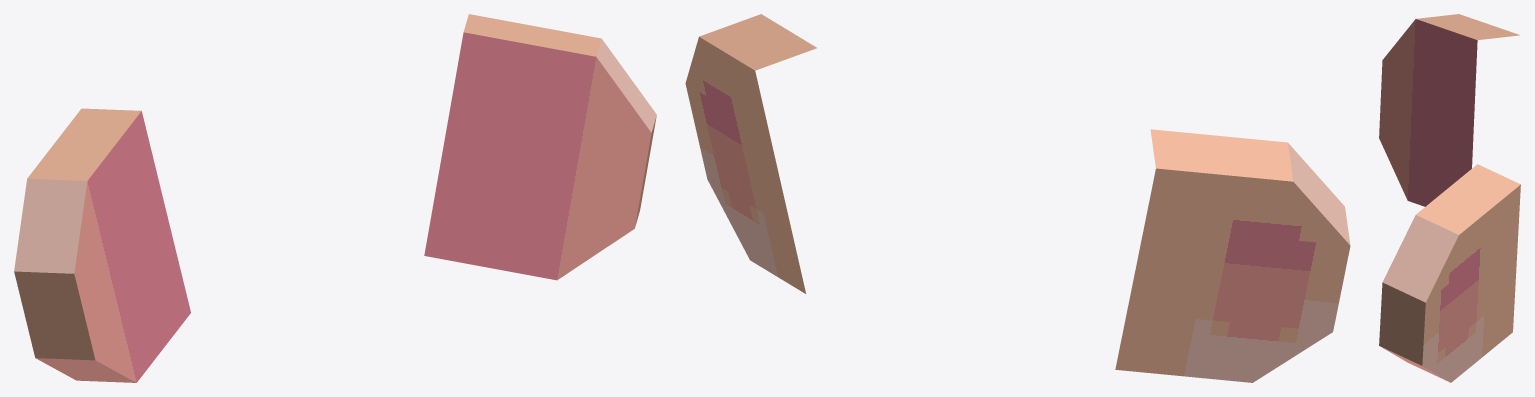
Rendered from N2GM12LX1ALSP.glb.
3 renders of one model, left to right at view 1: azimuth 30°, elevation 25°; view 2: azimuth 150°, elevation 25°; view 3: azimuth 270°, elevation 25°, orthographic. The views are drawn at different scales.
Visible parts, largest first — view 1: DefaultEars; view 2: DefaultEars; view 3: DefaultEars.
Part boxes in pixels (x1,y1,x2,y2): DefaultEars: (14, 14, 656, 382); DefaultEars: (685, 14, 1350, 382); DefaultEars: (1379, 14, 1520, 382).
Bounding box in the file's own units: 0.6865 × 0.2424 × 0.1664.
Materials: 1 (1 with a texture image).
